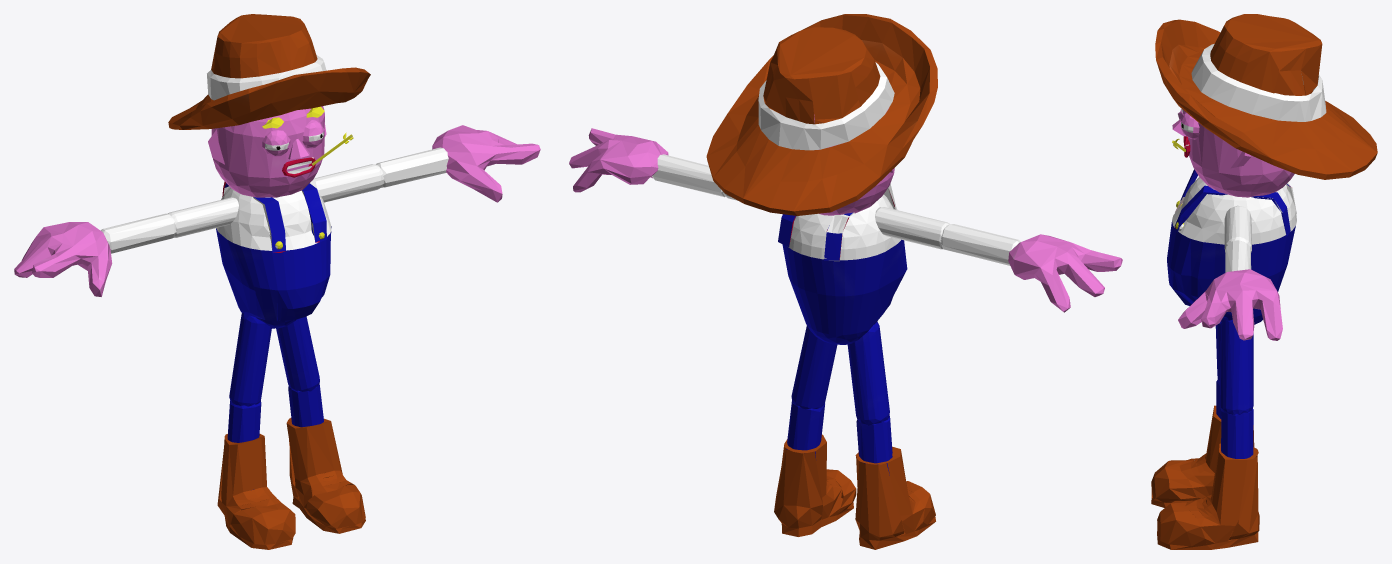
The model's file is farmer.obj.
The picture shows the model from 3 angles, left to right: view 1: azimuth 30°, elevation 25°; view 2: azimuth 150°, elevation 25°; view 3: azimuth 270°, elevation 25°; orthographic projection. The views are drawn at different scales.
Visible parts, largest first — view 1: Head, Body, RightLowerLeg, LeftLowerLeg, LeftLowerArm, RightLowerArm, LeftUpperLeg, RightUpperLeg, RightUpperArm, LeftUpperArm; view 2: Head, Body, LeftLowerLeg, RightLowerLeg, LeftLowerArm, RightLowerArm, LeftUpperLeg, RightUpperLeg, LeftUpperArm; view 3: Head, Body, RightLowerLeg, RightLowerArm, LeftLowerLeg, RightUpperLeg, RightUpperArm.
Part boxes in pixels (x1,y1,x2,y2): Head: (168, 14, 370, 197); Body: (216, 181, 331, 328); RightLowerLeg: (286, 383, 365, 533); LeftLowerLeg: (217, 400, 295, 549); LeftLowerArm: (14, 213, 176, 296); RightLowerArm: (376, 125, 540, 202); LeftUpperLeg: (229, 312, 271, 406); RightUpperLeg: (276, 316, 319, 391); RightUpperArm: (310, 164, 384, 202); LeftUpperArm: (168, 197, 238, 237); Head: (706, 14, 937, 215); Body: (778, 183, 907, 344); LeftLowerLeg: (855, 415, 935, 549); RightLowerLeg: (774, 401, 856, 536); LeftLowerArm: (941, 224, 1122, 312); RightLowerArm: (569, 128, 725, 197); LeftUpperLeg: (847, 321, 889, 425); RightUpperLeg: (791, 325, 837, 409); LeftUpperArm: (875, 207, 949, 249); Head: (1155, 14, 1377, 197); Body: (1167, 169, 1296, 324); RightLowerLeg: (1157, 408, 1259, 549); RightLowerArm: (1178, 240, 1282, 340); LeftLowerLeg: (1151, 379, 1254, 507); RightUpperLeg: (1220, 320, 1253, 414); RightUpperArm: (1224, 205, 1251, 253).
Size of the model in its own units: 6.21 by 5.58 by 2.32.
1 material, 1 textured.
